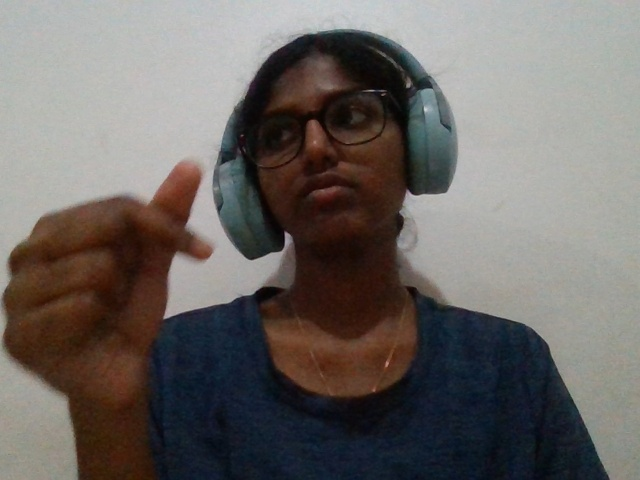G: (1, 132, 274, 468)
